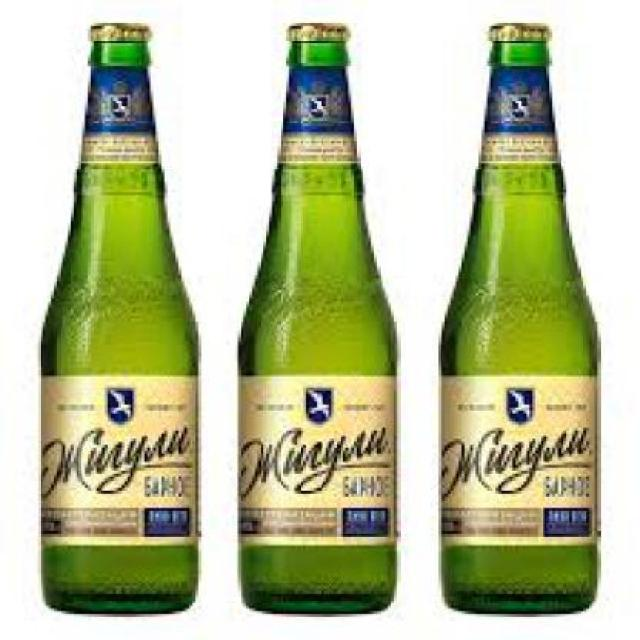GLASS: (235, 38, 394, 612), (439, 40, 598, 611), (37, 40, 195, 614)
METAL: (484, 20, 547, 37), (283, 18, 346, 34), (88, 19, 144, 35)
